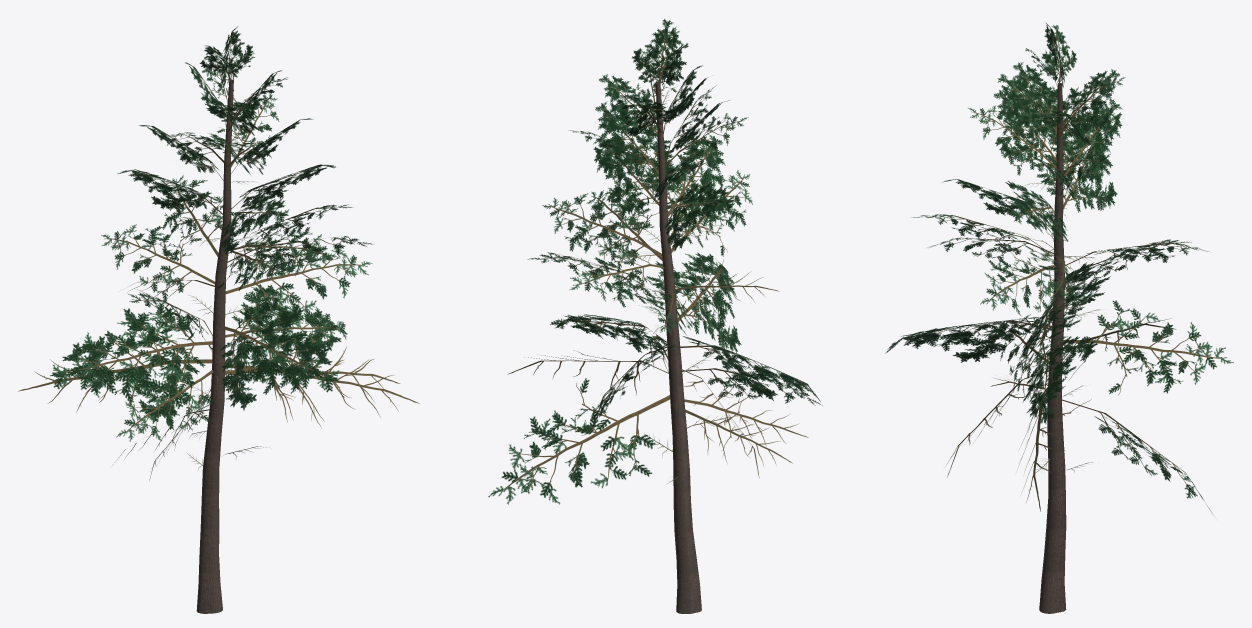
3 views of the same model, side by side, from view 1: azimuth 30°, elevation 25°; view 2: azimuth 150°, elevation 25°; view 3: azimuth 270°, elevation 25° (orthographic). The views are drawn at different scales.
Visible parts, largest first — view 1: Pine_Tree_Lowpoly__03; view 2: Pine_Tree_Lowpoly__03; view 3: Pine_Tree_Lowpoly__03.
Part boxes in pixels (box(x1,y1,x2,y2)): Pine_Tree_Lowpoly__03: box(18, 26, 419, 613); Pine_Tree_Lowpoly__03: box(488, 19, 822, 613); Pine_Tree_Lowpoly__03: box(885, 23, 1233, 613).
Size of the model in its own units: 0.1728 by 0.2776 by 0.1515.
Materials: 4 (4 with a texture image).
